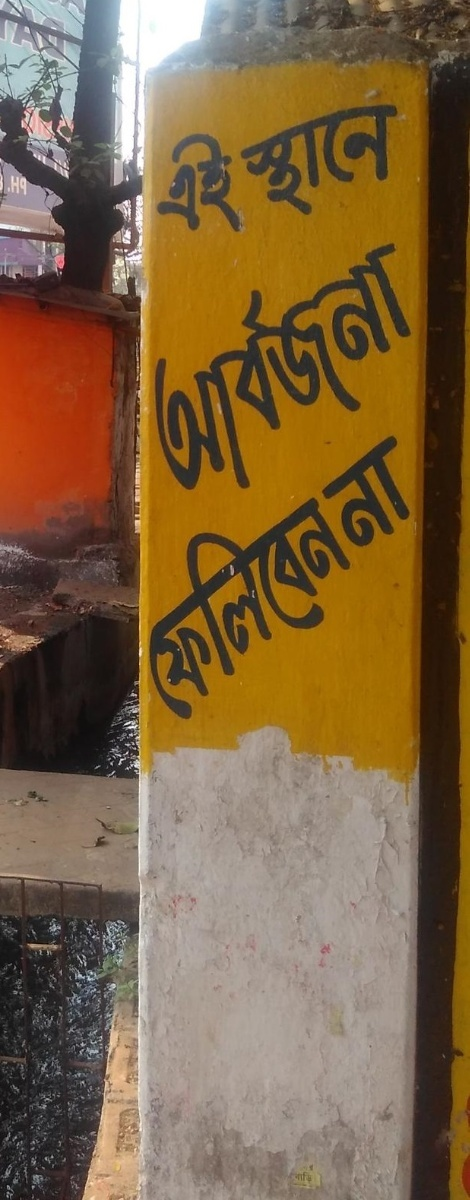text: (161, 238, 176, 561), (177, 238, 192, 561), (193, 238, 208, 561), (209, 238, 224, 561), (225, 238, 240, 561), (241, 238, 256, 561), (257, 238, 272, 561), (273, 238, 288, 561), (289, 238, 304, 561), (305, 238, 320, 561), (321, 238, 336, 561), (337, 238, 352, 561), (353, 238, 368, 561), (369, 238, 384, 561), (385, 238, 400, 561), (401, 238, 416, 561), (81, 460, 96, 741), (97, 460, 112, 741), (113, 460, 128, 741), (129, 460, 144, 741), (145, 460, 160, 741), (161, 460, 176, 741), (177, 460, 192, 741), (193, 460, 208, 741), (209, 460, 224, 741), (225, 460, 240, 741), (241, 460, 256, 741), (257, 460, 272, 741), (273, 460, 288, 741), (289, 460, 304, 741), (305, 460, 320, 741), (321, 460, 336, 741), (337, 460, 352, 741), (353, 460, 365, 741), (17, 5, 32, 212), (33, 5, 48, 212), (49, 5, 64, 212), (65, 5, 80, 212), (81, 5, 96, 212), (417, 238, 426, 561), (4, 5, 16, 212), (241, 87, 256, 238), (257, 87, 272, 238), (273, 87, 288, 238), (289, 87, 304, 238), (305, 87, 320, 238), (321, 87, 336, 238), (337, 87, 352, 238), (353, 87, 368, 238), (369, 87, 384, 238), (385, 87, 400, 238), (321, 425, 336, 573), (337, 425, 352, 573), (353, 425, 368, 573), (369, 425, 384, 573), (385, 425, 400, 573), (401, 425, 416, 573), (177, 132, 192, 255), (193, 132, 208, 255), (209, 132, 224, 255), (225, 132, 240, 255), (163, 132, 176, 255), (156, 238, 160, 561), (312, 425, 320, 573), (417, 425, 422, 573), (241, 132, 245, 255), (237, 87, 240, 238), (401, 87, 404, 238), (79, 460, 80, 741)
